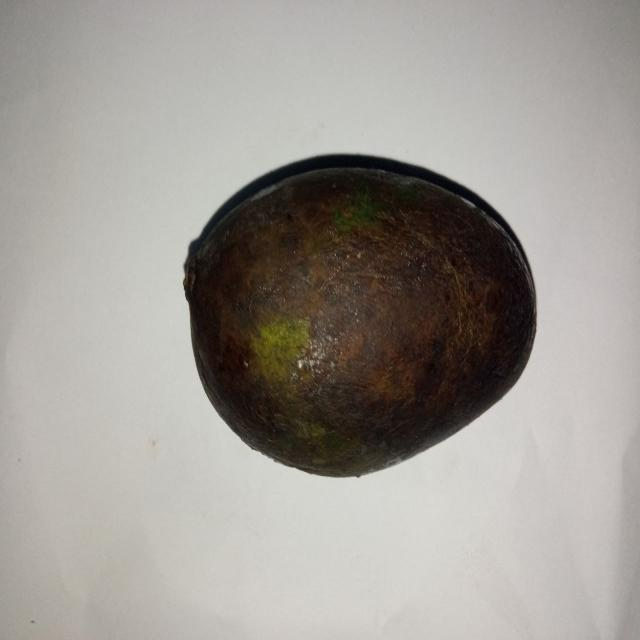rotten_mango: (180, 158, 539, 478)
